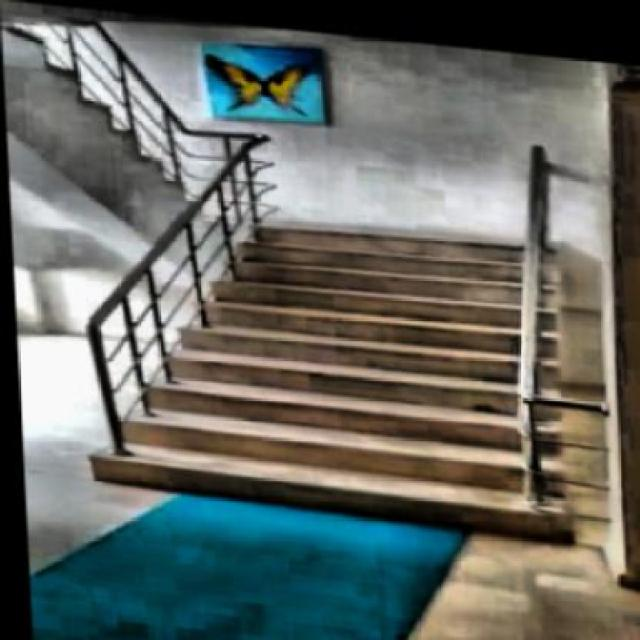stair: (78, 186, 592, 540)
